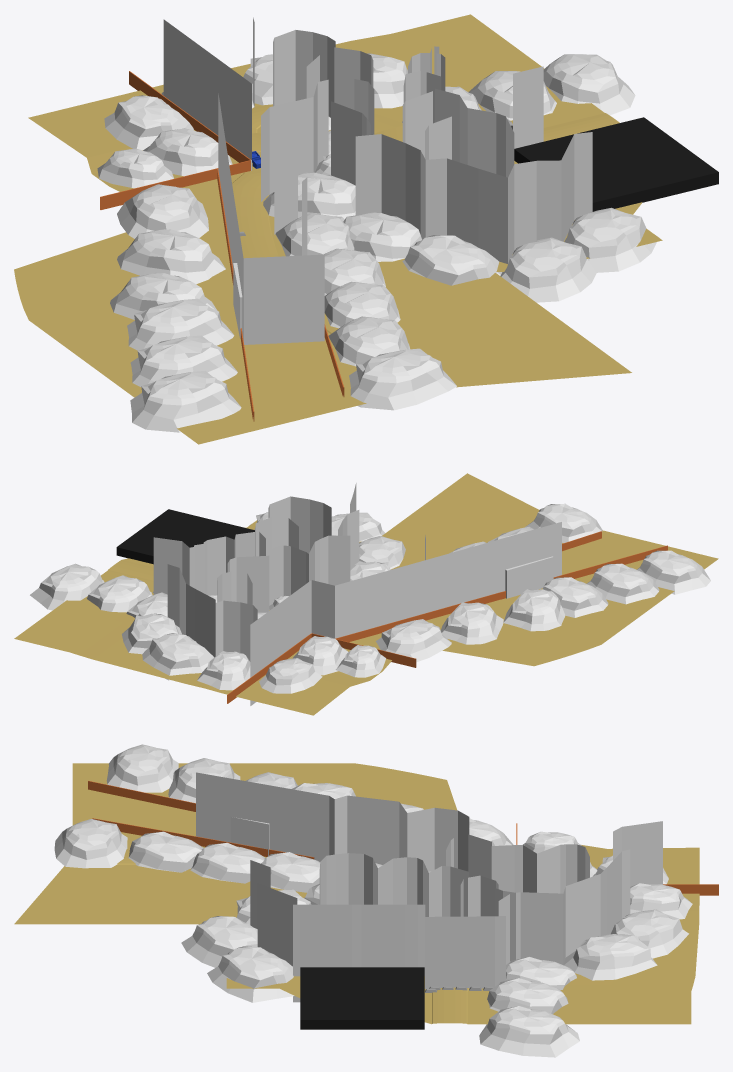
Rendered from event4_char2_v2.glb.
The picture shows the model from 3 angles, top to bottom: view 1: azimuth 30°, elevation 25°; view 2: azimuth 150°, elevation 25°; view 3: azimuth 270°, elevation 25°; orthographic projection. The views are drawn at different scales.
Parts seen in each view (by area): view 1: Plane.009, track_curves.001, monte_sucata1.001, monte_lixo2.026, monte_lixo2.027, monte_lixo2.006, monte_lixo2.022, monte_lixo2.005, monte_lixo2.003, monte_lixo2.017, monte_lixo2.024, monte_lixo2.025 (+16 smaller); view 2: Plane.009, track_curves.001, monte_sucata1.001, monte_lixo2.009, monte_lixo2.026, monte_lixo2.017, monte_lixo2.022, monte_lixo2.003, monte_lixo2.025, monte_lixo2.023, monte_lixo2.024, monte_lixo2.002 (+15 smaller); view 3: Plane.009, track_curves.001, monte_sucata1.001, monte_lixo2.003, monte_lixo2.005, monte_lixo2.004, monte_lixo2.027, monte_lixo2.026, monte_lixo2.006, monte_lixo2.021, monte_lixo2.009, monte_lixo2.020 (+13 smaller).
Boxes of the visible parts, x1,y1,x2,y2 form: Plane.009: [163, 17, 592, 344]; track_curves.001: [14, 14, 662, 444]; monte_sucata1.001: [514, 117, 718, 211]; monte_lixo2.026: [130, 371, 241, 432]; monte_lixo2.027: [349, 348, 456, 410]; monte_lixo2.006: [500, 237, 596, 302]; monte_lixo2.022: [117, 229, 225, 284]; monte_lixo2.005: [564, 207, 658, 272]; monte_lixo2.003: [543, 54, 635, 115]; monte_lixo2.017: [117, 184, 208, 238]; monte_lixo2.024: [127, 298, 234, 350]; monte_lixo2.025: [130, 335, 237, 387]; Plane.009: [153, 483, 561, 705]; track_curves.001: [14, 473, 718, 715]; monte_sucata1.001: [116, 509, 254, 564]; monte_lixo2.009: [142, 633, 213, 680]; monte_lixo2.026: [637, 550, 710, 594]; monte_lixo2.017: [375, 619, 451, 662]; monte_lixo2.022: [441, 602, 503, 644]; monte_lixo2.003: [30, 563, 104, 610]; monte_lixo2.025: [586, 563, 659, 604]; monte_lixo2.023: [503, 589, 565, 631]; monte_lixo2.024: [543, 577, 608, 617]; monte_lixo2.002: [87, 575, 152, 612]; Plane.009: [196, 772, 662, 1002]; track_curves.001: [14, 763, 699, 1024]; monte_sucata1.001: [300, 967, 424, 1029]; monte_lixo2.003: [479, 1006, 579, 1057]; monte_lixo2.005: [207, 946, 294, 1002]; monte_lixo2.004: [563, 934, 657, 980]; monte_lixo2.027: [54, 819, 127, 868]; monte_lixo2.026: [106, 744, 178, 792]; monte_lixo2.006: [181, 916, 257, 967]; monte_lixo2.021: [128, 831, 203, 872]; monte_lixo2.009: [611, 909, 688, 958]; monte_lixo2.020: [190, 842, 265, 883].
Bounding box in the file's own units: 291 × 45.86 × 294.
